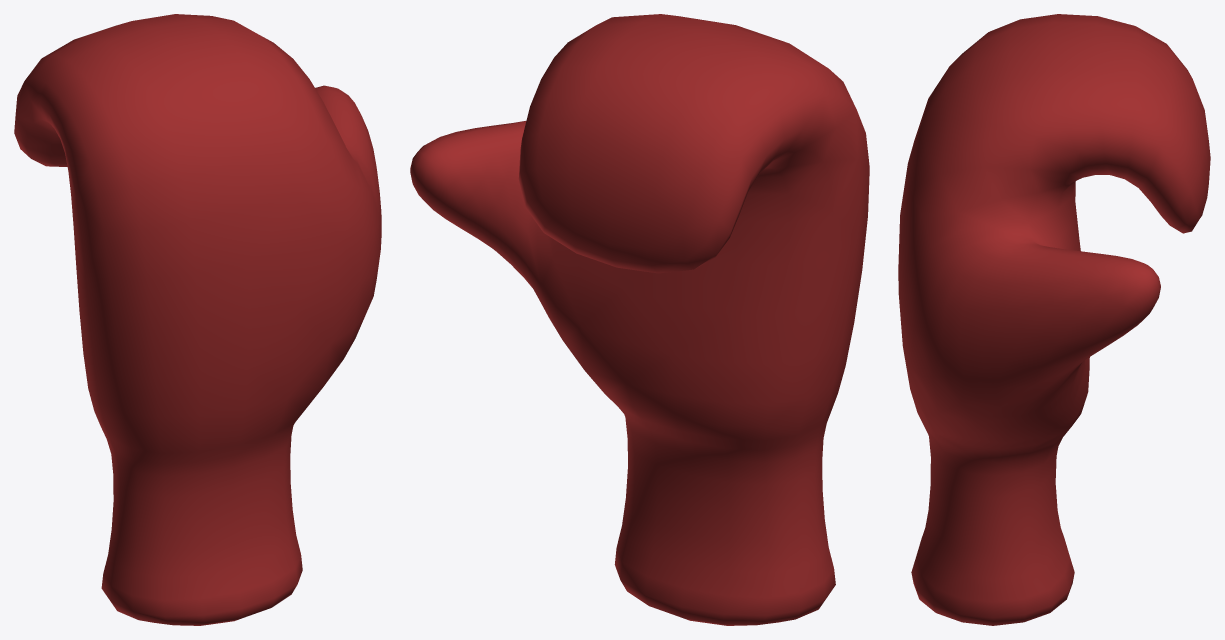
The model's file is BoxingGlove.fbx.
3 views of the same model, side by side, from view 1: azimuth 30°, elevation 25°; view 2: azimuth 150°, elevation 25°; view 3: azimuth 270°, elevation 25° (orthographic). The views are drawn at different scales.
Visible parts, largest first — view 1: pCube2; view 2: pCube2; view 3: pCube2.
Part boxes in pixels (left/top/right/bottom): pCube2: left=14, top=14, right=381, bottom=625; pCube2: left=410, top=14, right=869, bottom=625; pCube2: left=898, top=14, right=1210, bottom=625.
Size of the model in its own units: 6.76 by 10.25 by 5.24.
